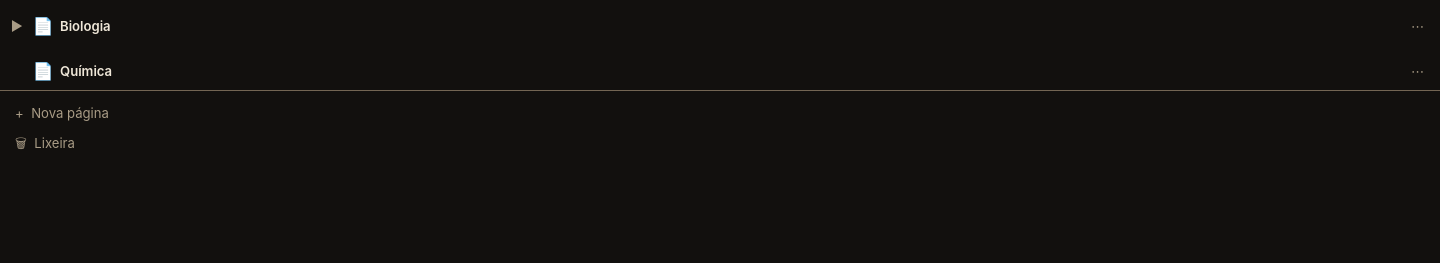
Test: PageTree › favoritar pelo menu de contexto (atalho equivalente à estrela do FUN-008) move a página para a seção Favoritos, sem sumir da árvore
The image size is (1440, 263).
Step 1. Click the button named "Mais ações para Química" → (1418, 71), box [1406, 60, 1429, 82]
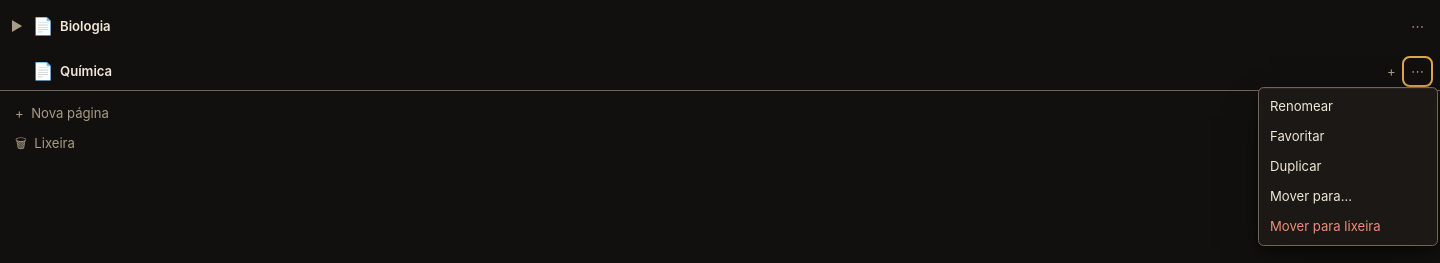
Step 2. Click the menu item "Favoritar" → (1348, 136), box [1262, 121, 1433, 151]
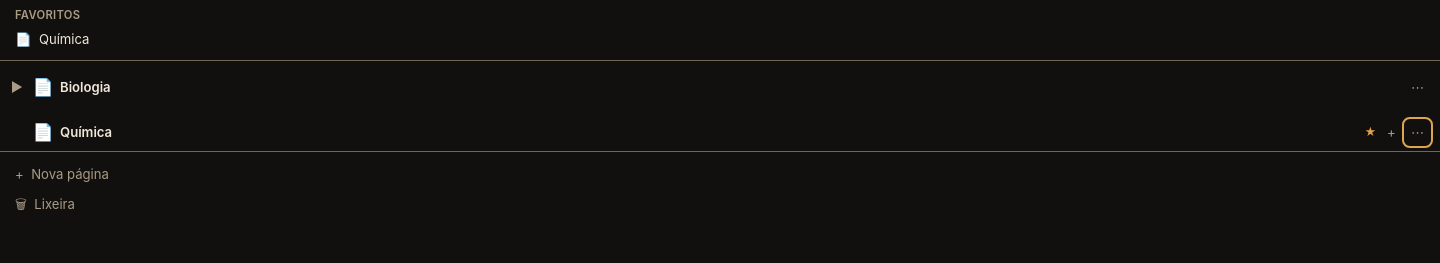
Expected: the list item "📄 Química ★ + ⋯" is shown, [8, 114, 1432, 151]
Expected: the element "Favoritos" is shown, [0, 8, 1439, 61]
